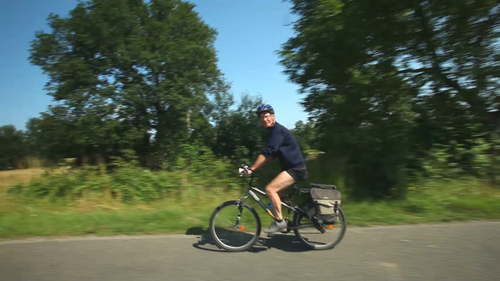bikerider: (202, 98, 355, 257)
